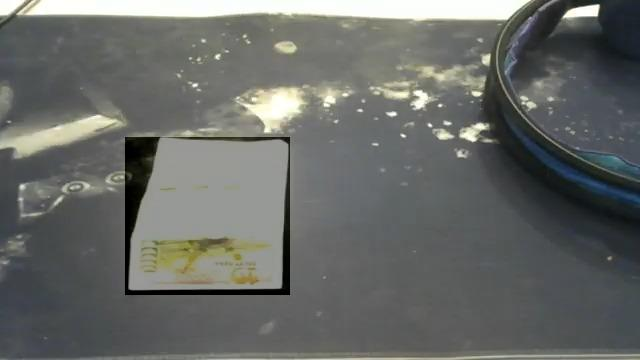10leva: (125, 137, 290, 295), (125, 137, 290, 293)
